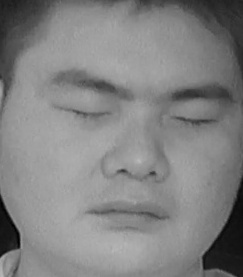blink: (56, 93, 113, 131), (172, 102, 222, 136)
mouth: (89, 189, 174, 238)
